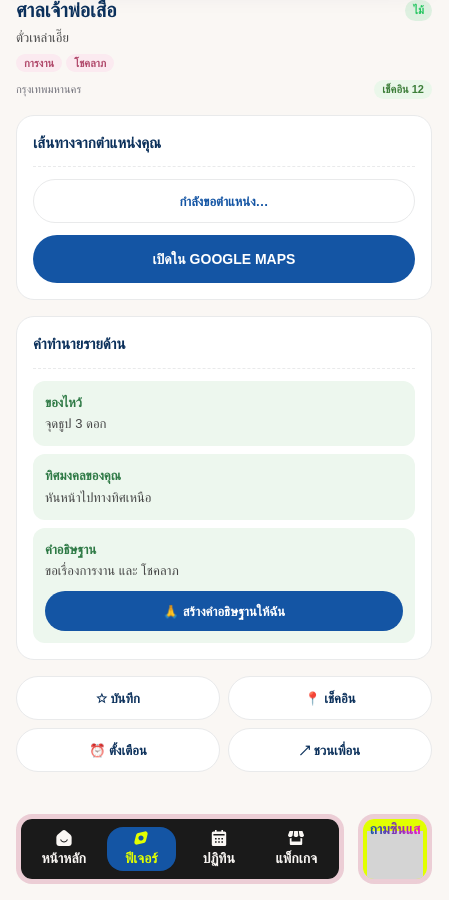
หน้ารายละเอียดสถานที่ (SacredPlaceDetailScreen) › แสดงคำทำนายรายด้าน (โพยการมู) + เช็คอินยิง POST พร้อม id
(page scrolled)
Expected: the element with test id "sacred-place-guide" is shown, [16, 316, 432, 660]
Expected: the text "ของไหว้" is shown, [45, 395, 82, 410]
Click the button with test id "sacred-place-checkin" at x=330, y=698, box [228, 676, 432, 720]
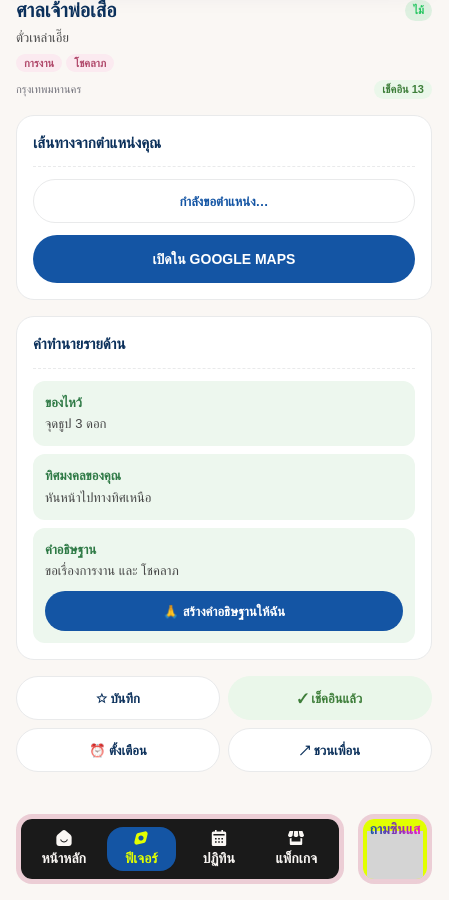
Now the button with test id "sacred-place-checkin" shows "เช็คอินแล้ว", box [228, 676, 432, 720]
